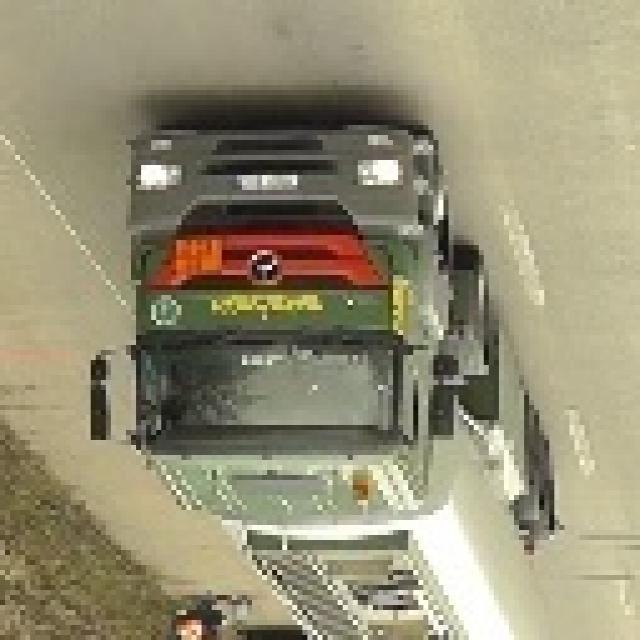truck: (90, 115, 564, 640)
